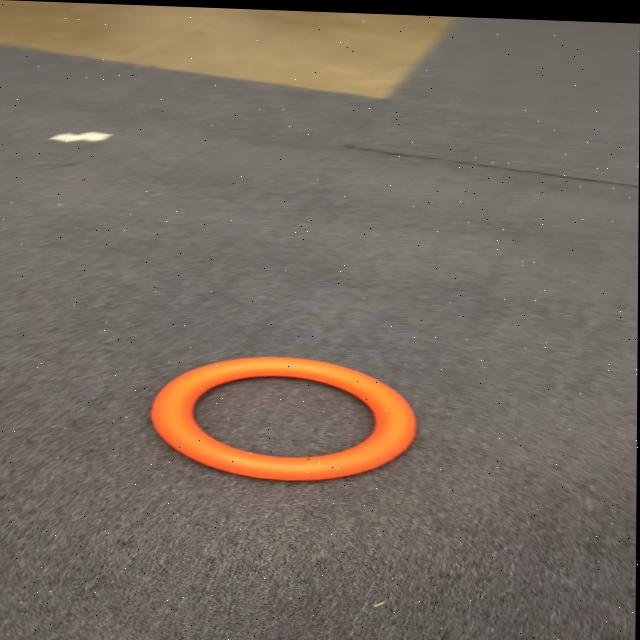note: (149, 352, 414, 481)
